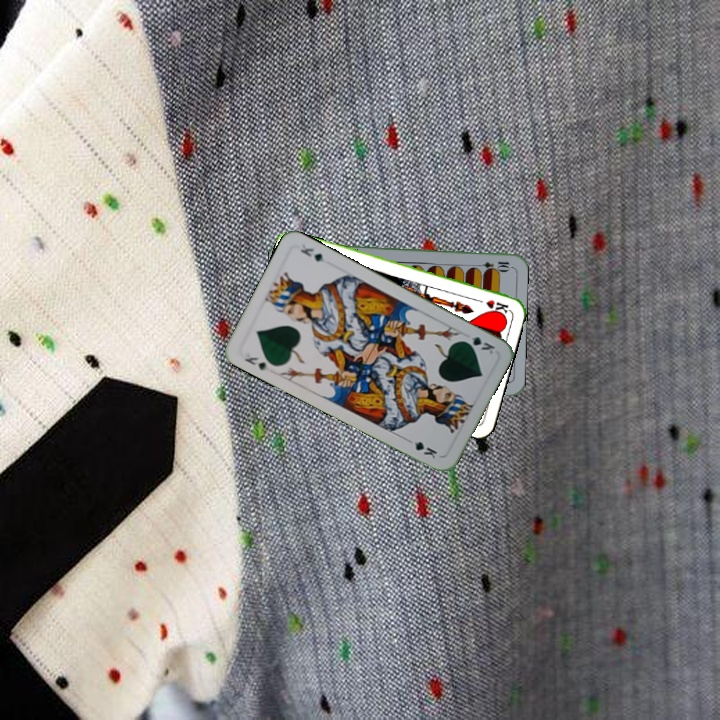E10: (471, 257, 512, 271)
GK: (458, 332, 498, 356), (241, 353, 272, 373)
HK: (471, 295, 511, 316)
